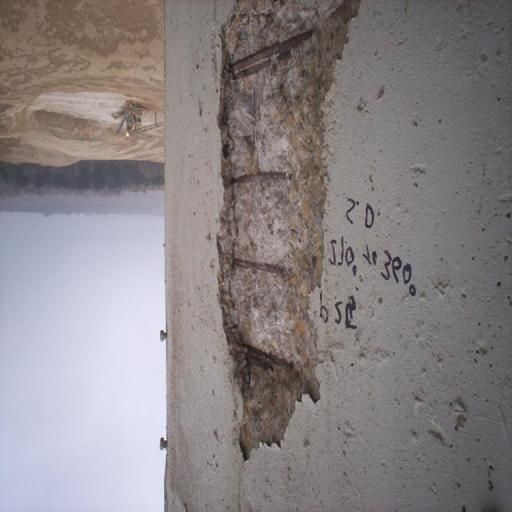spalling: (214, 0, 366, 461)
